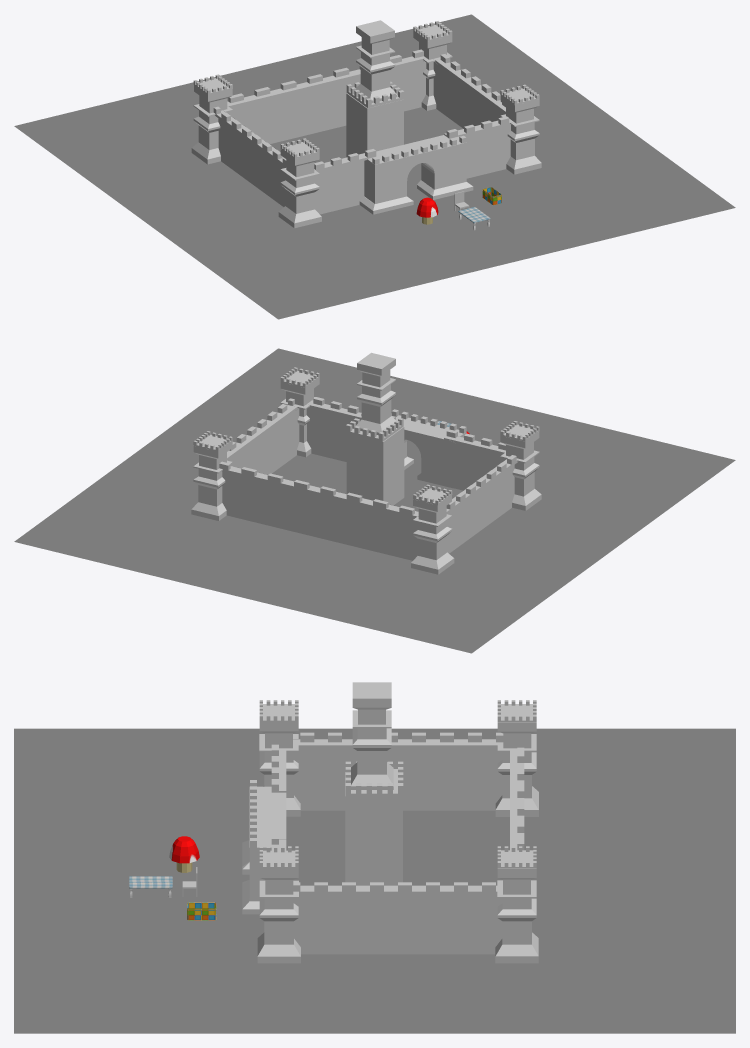
Rendered from mycastle1.fbx.
The picture shows the model from 3 angles, top to bottom: view 1: azimuth 30°, elevation 25°; view 2: azimuth 150°, elevation 25°; view 3: azimuth 270°, elevation 25°; orthographic projection. The views are drawn at different scales.
Visible parts, largest first — view 1: Ground, Castle walls, GateHouse, Catwalk.001, base tower, mytower, Tower 4, Tower 3, Tower 2, Cornice Blocks, Tower 1, my tower cornice (+7 smaller); view 2: Ground, Castle walls, Catwalk.001, base tower, mytower, GateHouse, Tower 2, Tower 1, Tower 4, Cornice Blocks, Tower 3, my tower cornice (+4 smaller); view 3: Ground, Castle walls, Catwalk.001, base tower, mytower, Tower 1, Tower 3, Tower 2, GateHouse, Tower 4, Cornice Blocks, my tower cornice (+6 smaller).
Part boxes in pixels (x1,y1,x2,y2): Ground: (14,14,735,319); Castle walls: (218,61,510,214); GateHouse: (364,135,466,203); Catwalk.001: (213,49,509,170); base tower: (346,93,403,157); mytower: (356,20,397,102); Tower 4: (278,149,321,228); Tower 3: (500,95,541,174); Tower 2: (191,85,232,164); Cornice Blocks: (215,57,512,171); Tower 1: (413,31,452,110); my tower cornice: (346,81,404,108); Ground: (14,348,735,653); Castle walls: (222,407,514,560); Catwalk.001: (219,397,516,516); base tower: (346,426,404,505); mytower: (355,352,395,435); GateHouse: (391,413,466,488); Tower 2: (411,495,454,574); Tower 1: (191,441,232,520); Tower 4: (500,431,541,510); Cornice Blocks: (222,404,518,518); Tower 3: (280,378,319,457); my tower cornice: (346,414,403,441); Ground: (14,728,735,1033); Castle walls: (293,748,502,954); Catwalk.001: (271,732,524,891); base tower: (345,772,402,885); mytower: (351,682,393,789); Tower 1: (495,868,538,963); Tower 3: (257,869,300,963); Tower 2: (495,722,538,816); GateHouse: (249,786,286,901); Tower 4: (259,722,300,816); Cornice Blocks: (271,739,497,894); my tower cornice: (345,761,403,796).
Size of the model in its own units: 10000 by 2988 by 10000.
